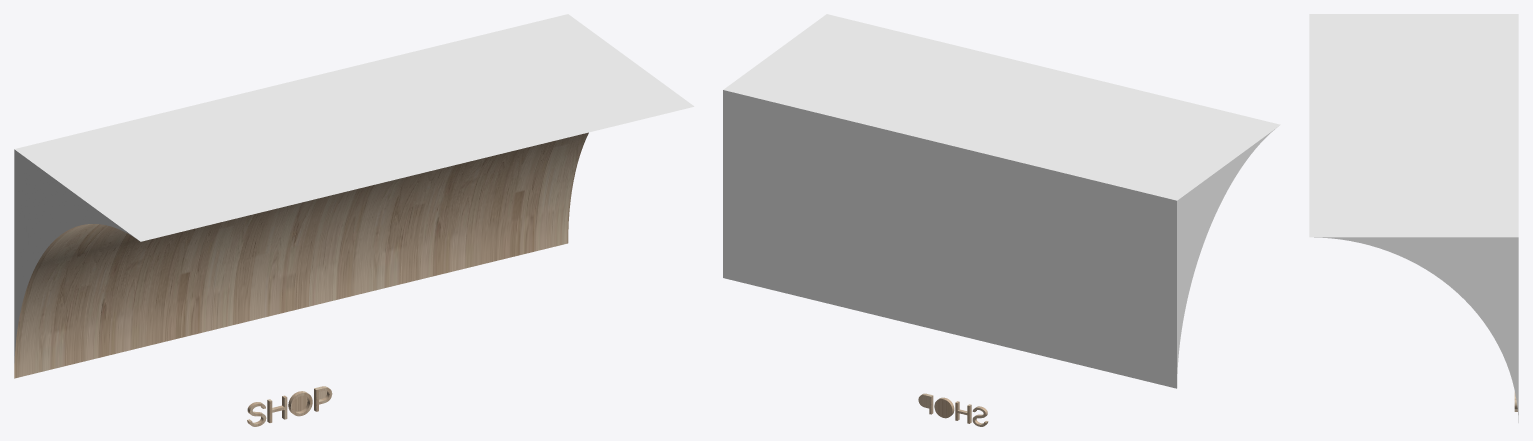
Rendered from wood.gltf.
3 renders of one model, left to right at view 1: azimuth 30°, elevation 25°; view 2: azimuth 150°, elevation 25°; view 3: azimuth 270°, elevation 25°, orthographic. The views are drawn at different scales.
Visible parts, largest first — view 1: group_0.009, group_0.010; view 2: group_0.009; view 3: group_0.009.
Part boxes in pixels (x1=…): group_0.009: x1=14, y1=14, x2=694, y2=362; group_0.010: x1=14, y1=132, x2=588, y2=378; group_0.009: x1=723, y1=14, x2=1280, y2=388; group_0.009: x1=1309, y1=14, x2=1518, y2=422.
Size of the model in its own units: 3.79 by 2.19 by 1.5.
4 materials, 3 textured.
